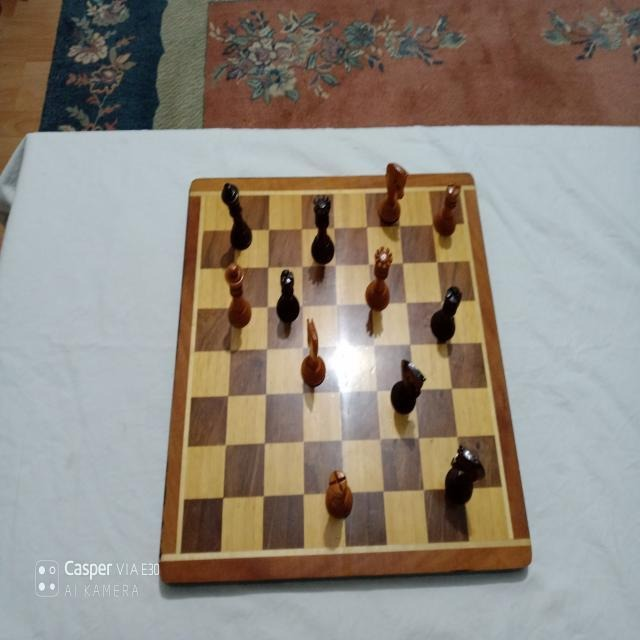black-king: (220, 181, 251, 250)
black-knight: (444, 442, 485, 505), (390, 357, 426, 415)
black-queen: (310, 193, 334, 263)
black-rook: (430, 285, 462, 341), (276, 269, 300, 323)
white-king: (224, 262, 251, 328)
white-knight: (378, 162, 410, 223), (300, 317, 326, 387)
white-queen: (366, 246, 394, 310)
white-rook: (433, 179, 461, 237), (326, 469, 354, 519)
